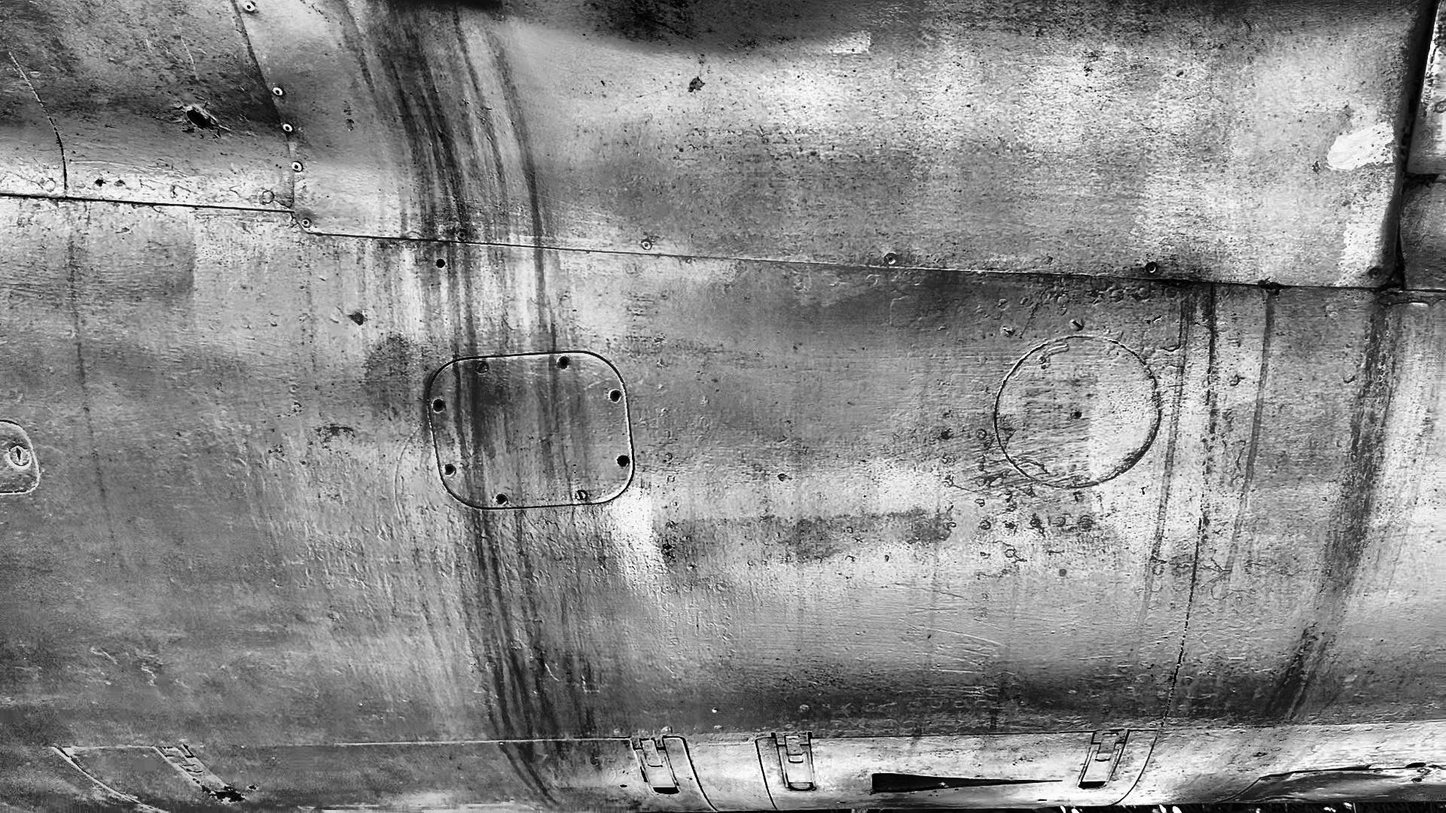crack: (1394, 224, 1406, 291), (1403, 172, 1440, 190)
missing-head: (609, 390, 621, 403), (617, 455, 630, 467), (558, 357, 570, 369), (434, 398, 445, 410), (444, 464, 455, 475), (496, 494, 506, 505)
paint-peel-off: (215, 786, 245, 802), (689, 76, 704, 93)
